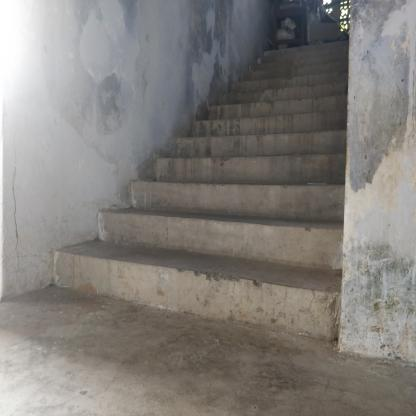stairs: (153, 162, 339, 350)
